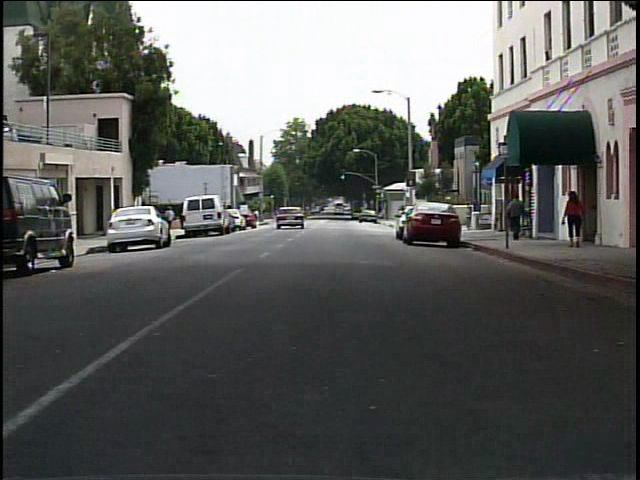person: (559, 189, 587, 248), (502, 191, 530, 242), (161, 201, 180, 234)
